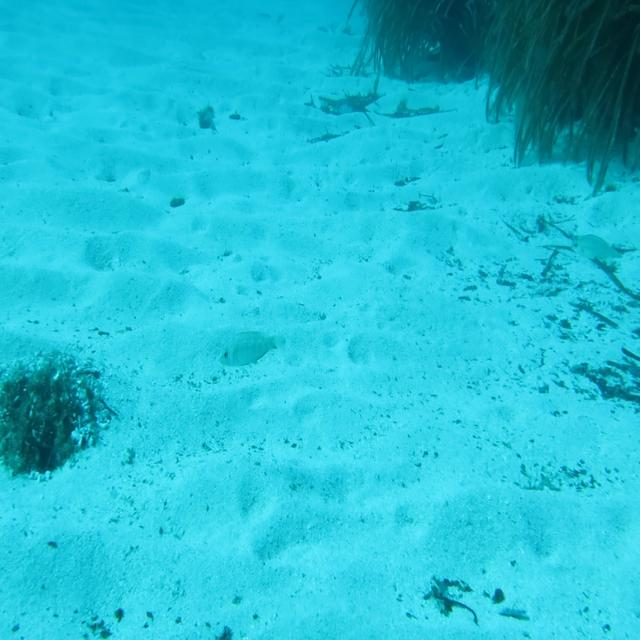BN: (216, 326, 288, 368)
core_nest: (26, 385, 65, 408)
female: (569, 231, 623, 262)
nest: (1, 348, 112, 483)
